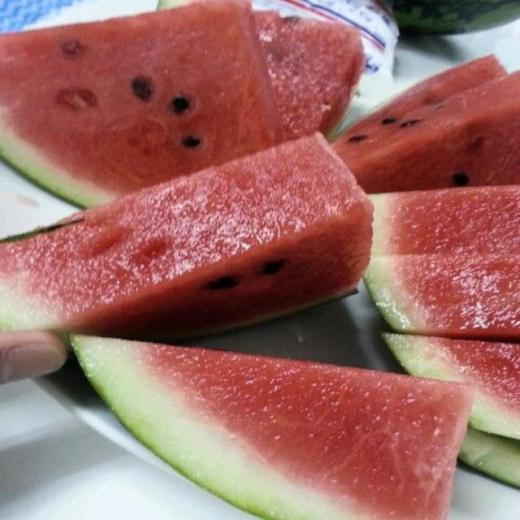Cherry: (0, 0, 519, 519), (65, 326, 475, 519)
